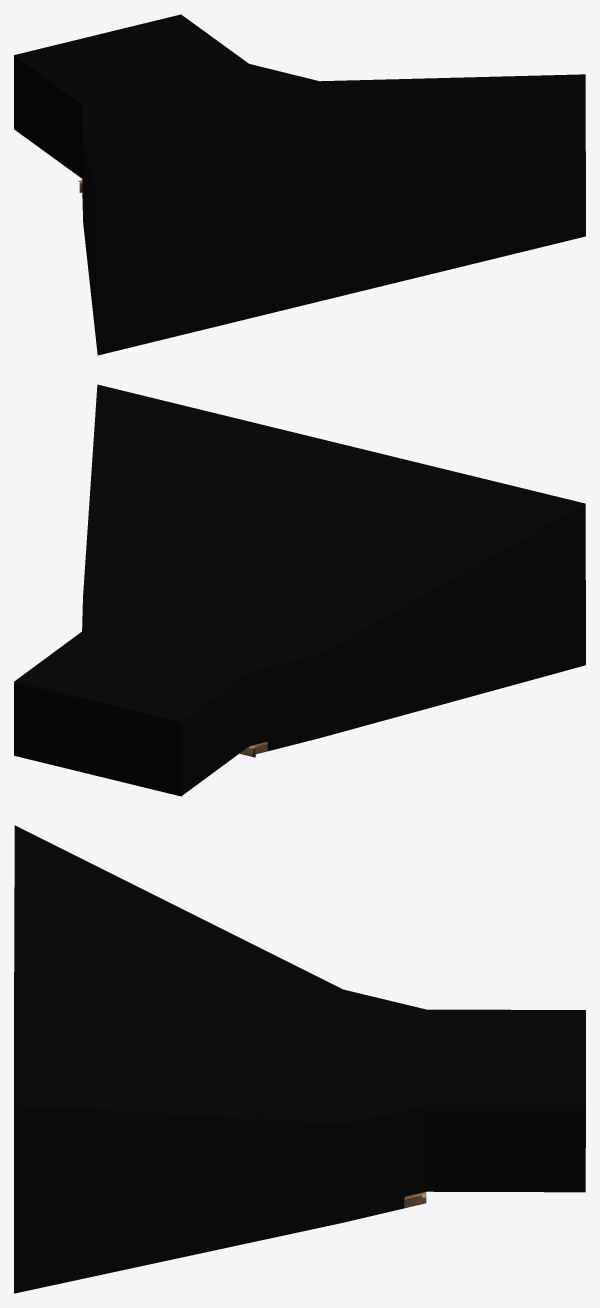
File: My MAI Tonight.fbx
3 views of the same model, one above another, from view 1: azimuth 30°, elevation 25°; view 2: azimuth 150°, elevation 25°; view 3: azimuth 270°, elevation 25° (orthographic). The views are drawn at different scales.
Visible parts, largest first — view 1: bg0022_01_stageA_opa_ref_mt; view 2: bg0022_01_stageA_opa_ref_mt; view 3: bg0022_01_stageA_opa_ref_mt.
Boxes of the visible parts, left/top/right/bottom form: bg0022_01_stageA_opa_ref_mt: left=14, top=14, right=585, bottom=355; bg0022_01_stageA_opa_ref_mt: left=14, top=384, right=585, bottom=796; bg0022_01_stageA_opa_ref_mt: left=14, top=825, right=585, bottom=1293.
Bounding box in the file's own units: 8309 × 2682 × 7201.
